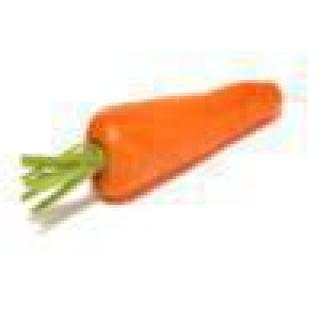Wortel: (11, 72, 286, 219)
